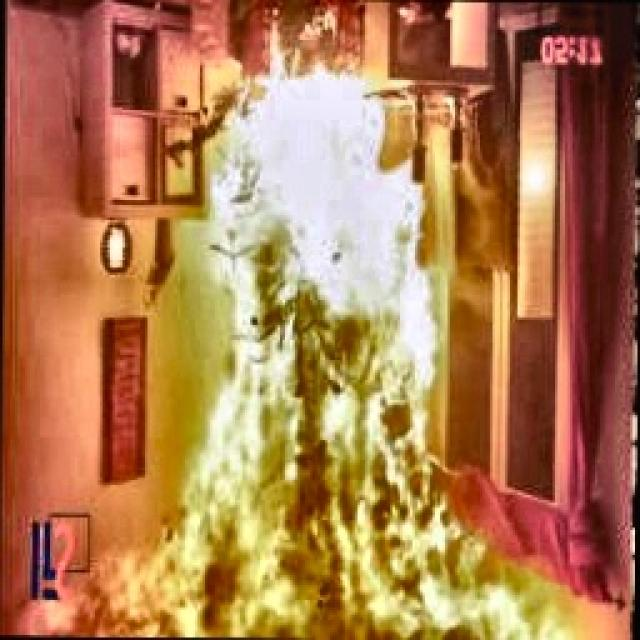fire: (100, 70, 535, 640)
